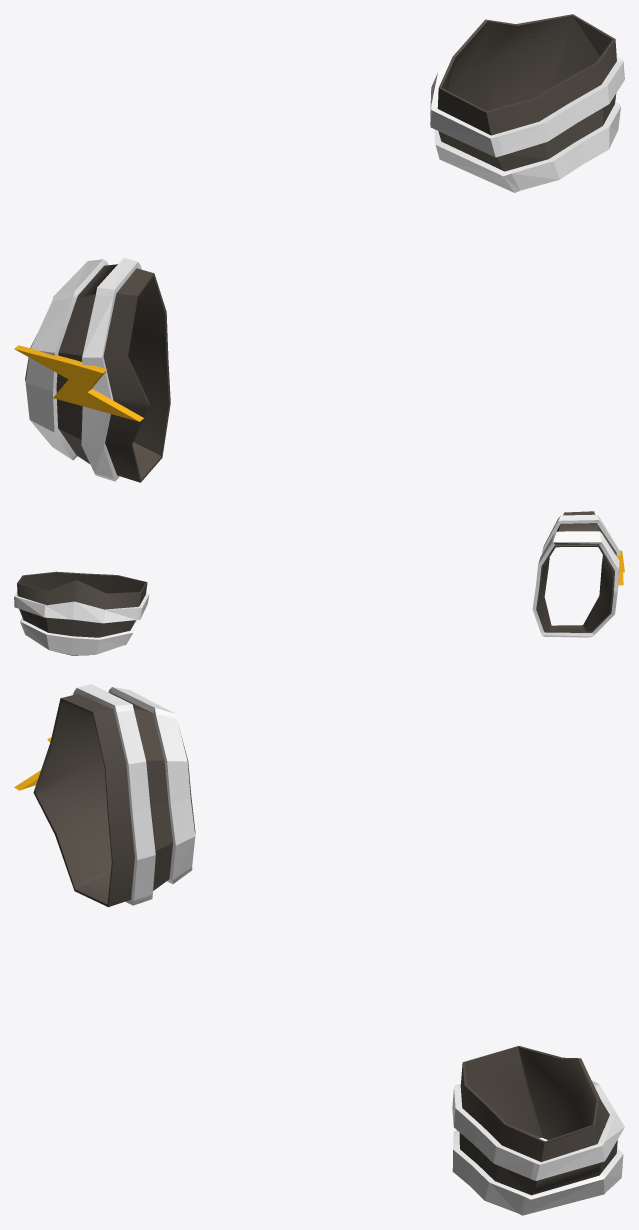
The picture shows the model from 3 angles, top to bottom: view 1: azimuth 30°, elevation 25°; view 2: azimuth 150°, elevation 25°; view 3: azimuth 270°, elevation 25°; orthographic projection. The views are drawn at different scales.
Parts seen in each view (by area): view 1: hand_claws_R, hand_claws_L, Elec_AC_009; view 2: hand_claws_R, hand_claws_L; view 3: hand_claws_L, hand_claws_R.
Part boxes in pixels (x1,y1,x2,y2): hand_claws_R: [430, 14, 624, 192]; hand_claws_L: [25, 258, 170, 482]; Elec_AC_009: [14, 345, 143, 421]; hand_claws_R: [14, 571, 149, 655]; hand_claws_L: [532, 511, 620, 637]; hand_claws_L: [33, 684, 195, 907]; hand_claws_R: [452, 1046, 624, 1215].
Size of the model in its own units: 135 by 90.19 by 31.98.
